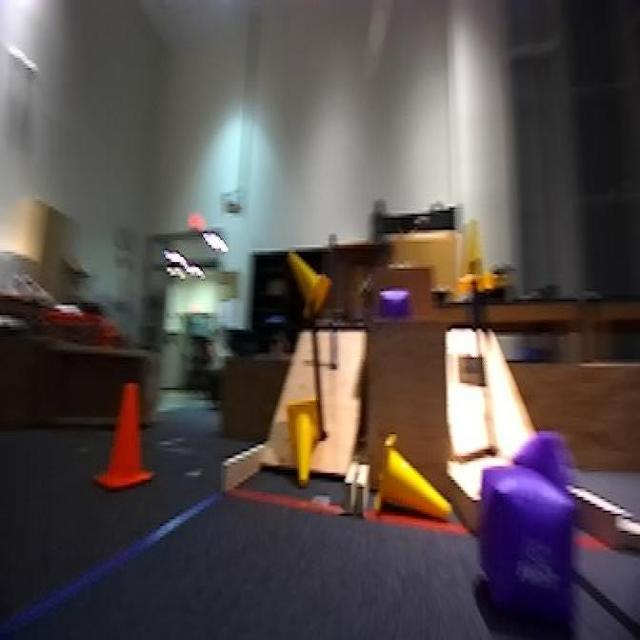frc_cone: (372, 427, 443, 519), (279, 388, 323, 490), (288, 250, 329, 320), (462, 210, 493, 296)
frc_cube: (481, 464, 582, 630), (514, 432, 588, 533), (375, 290, 415, 318)
